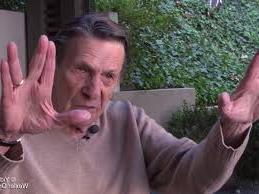Live-Long-Prosper: (0, 33, 90, 138)
